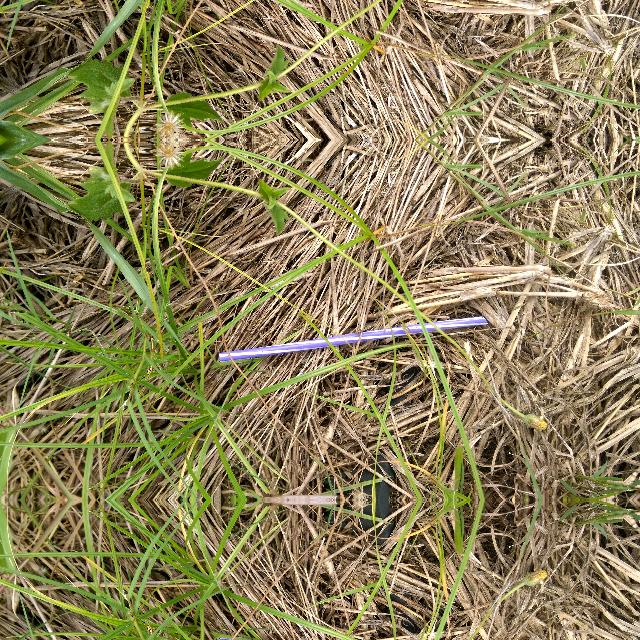Plastic: (204, 303, 501, 372), (203, 626, 500, 640)
